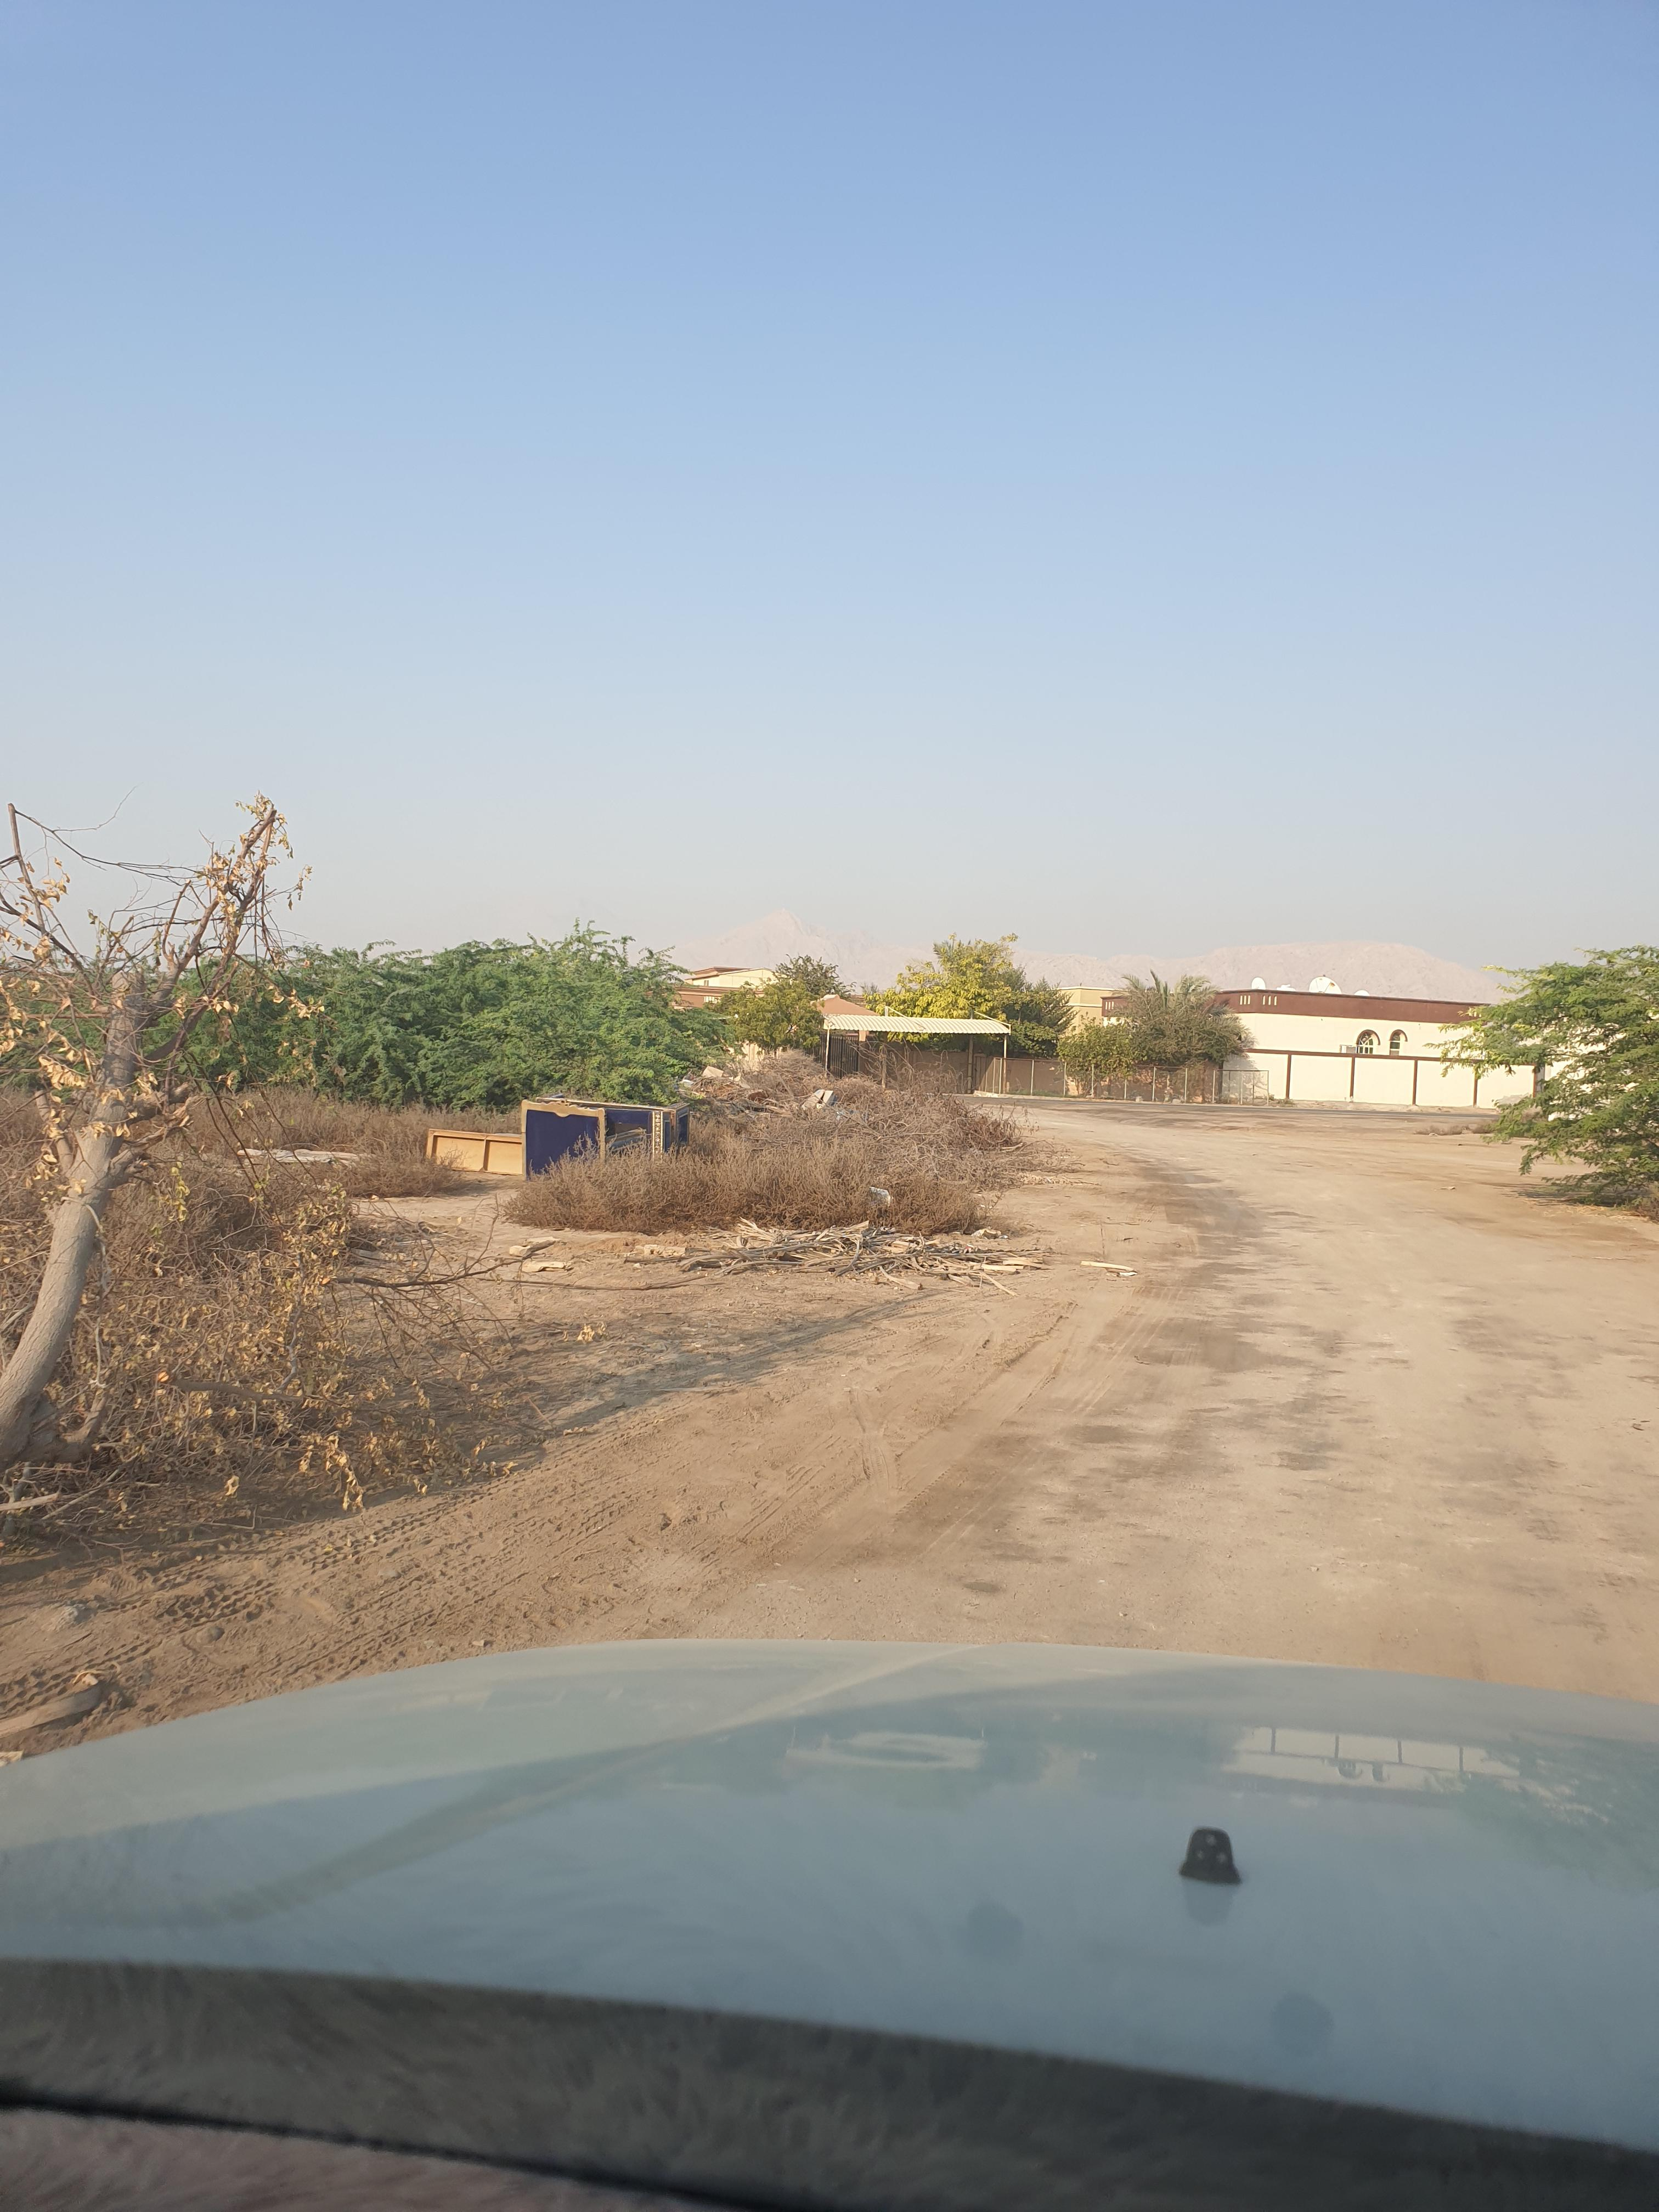fallen_trees: (664, 1211, 1173, 1317), (795, 1224, 1124, 1305), (875, 1235, 979, 1313)
uncollected_waste: (521, 1087, 725, 1183)
